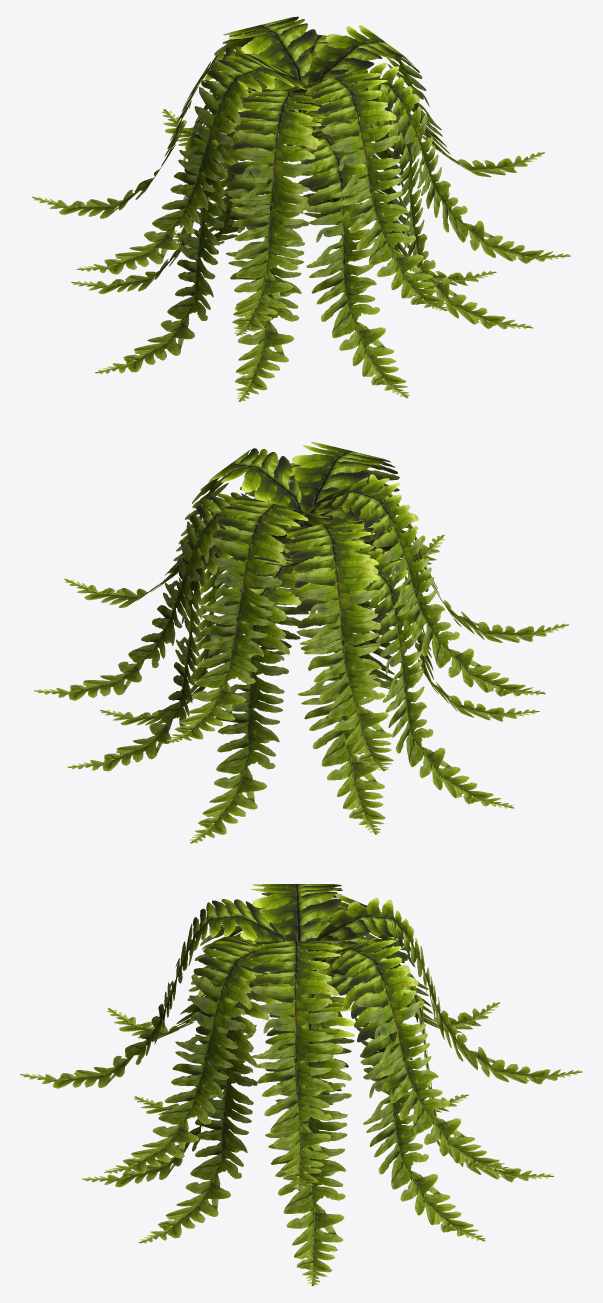
Rendered from plant13.FBX.
The picture shows the model from 3 angles, top to bottom: view 1: azimuth 30°, elevation 25°; view 2: azimuth 150°, elevation 25°; view 3: azimuth 270°, elevation 25°; orthographic projection.
Visible parts, largest first — view 1: plant13; view 2: plant13; view 3: plant13.
Boxes of the visible parts, x1,y1,x2,y2 form: plant13: [32, 16, 570, 401]; plant13: [34, 442, 569, 843]; plant13: [20, 884, 582, 1286].
Bounding box in the file's own units: 26.87 × 27.39 × 14.34.
